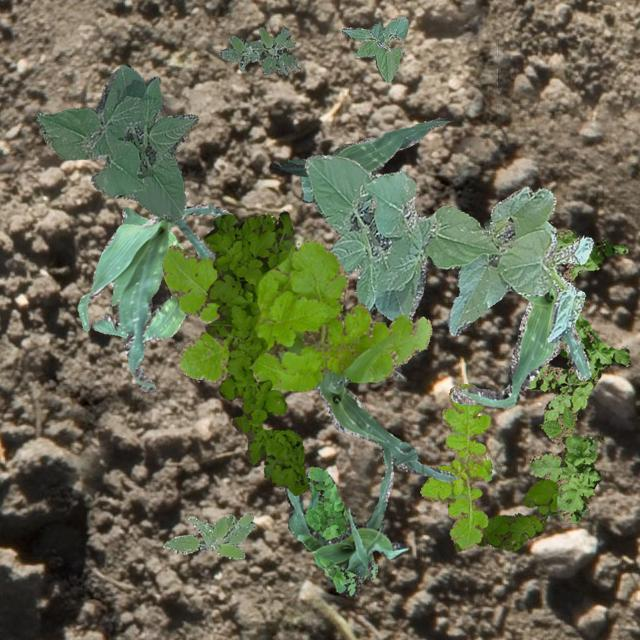crop: (304, 154, 592, 342), (76, 204, 230, 392), (450, 222, 590, 408), (34, 64, 198, 218), (316, 366, 460, 480), (284, 446, 408, 576), (268, 116, 447, 202), (91, 207, 186, 341), (341, 14, 406, 82)
weed: (160, 238, 430, 390), (526, 228, 628, 522), (202, 210, 306, 494), (418, 382, 492, 550), (303, 466, 377, 596), (452, 476, 558, 550), (162, 512, 254, 558), (218, 26, 298, 74)
